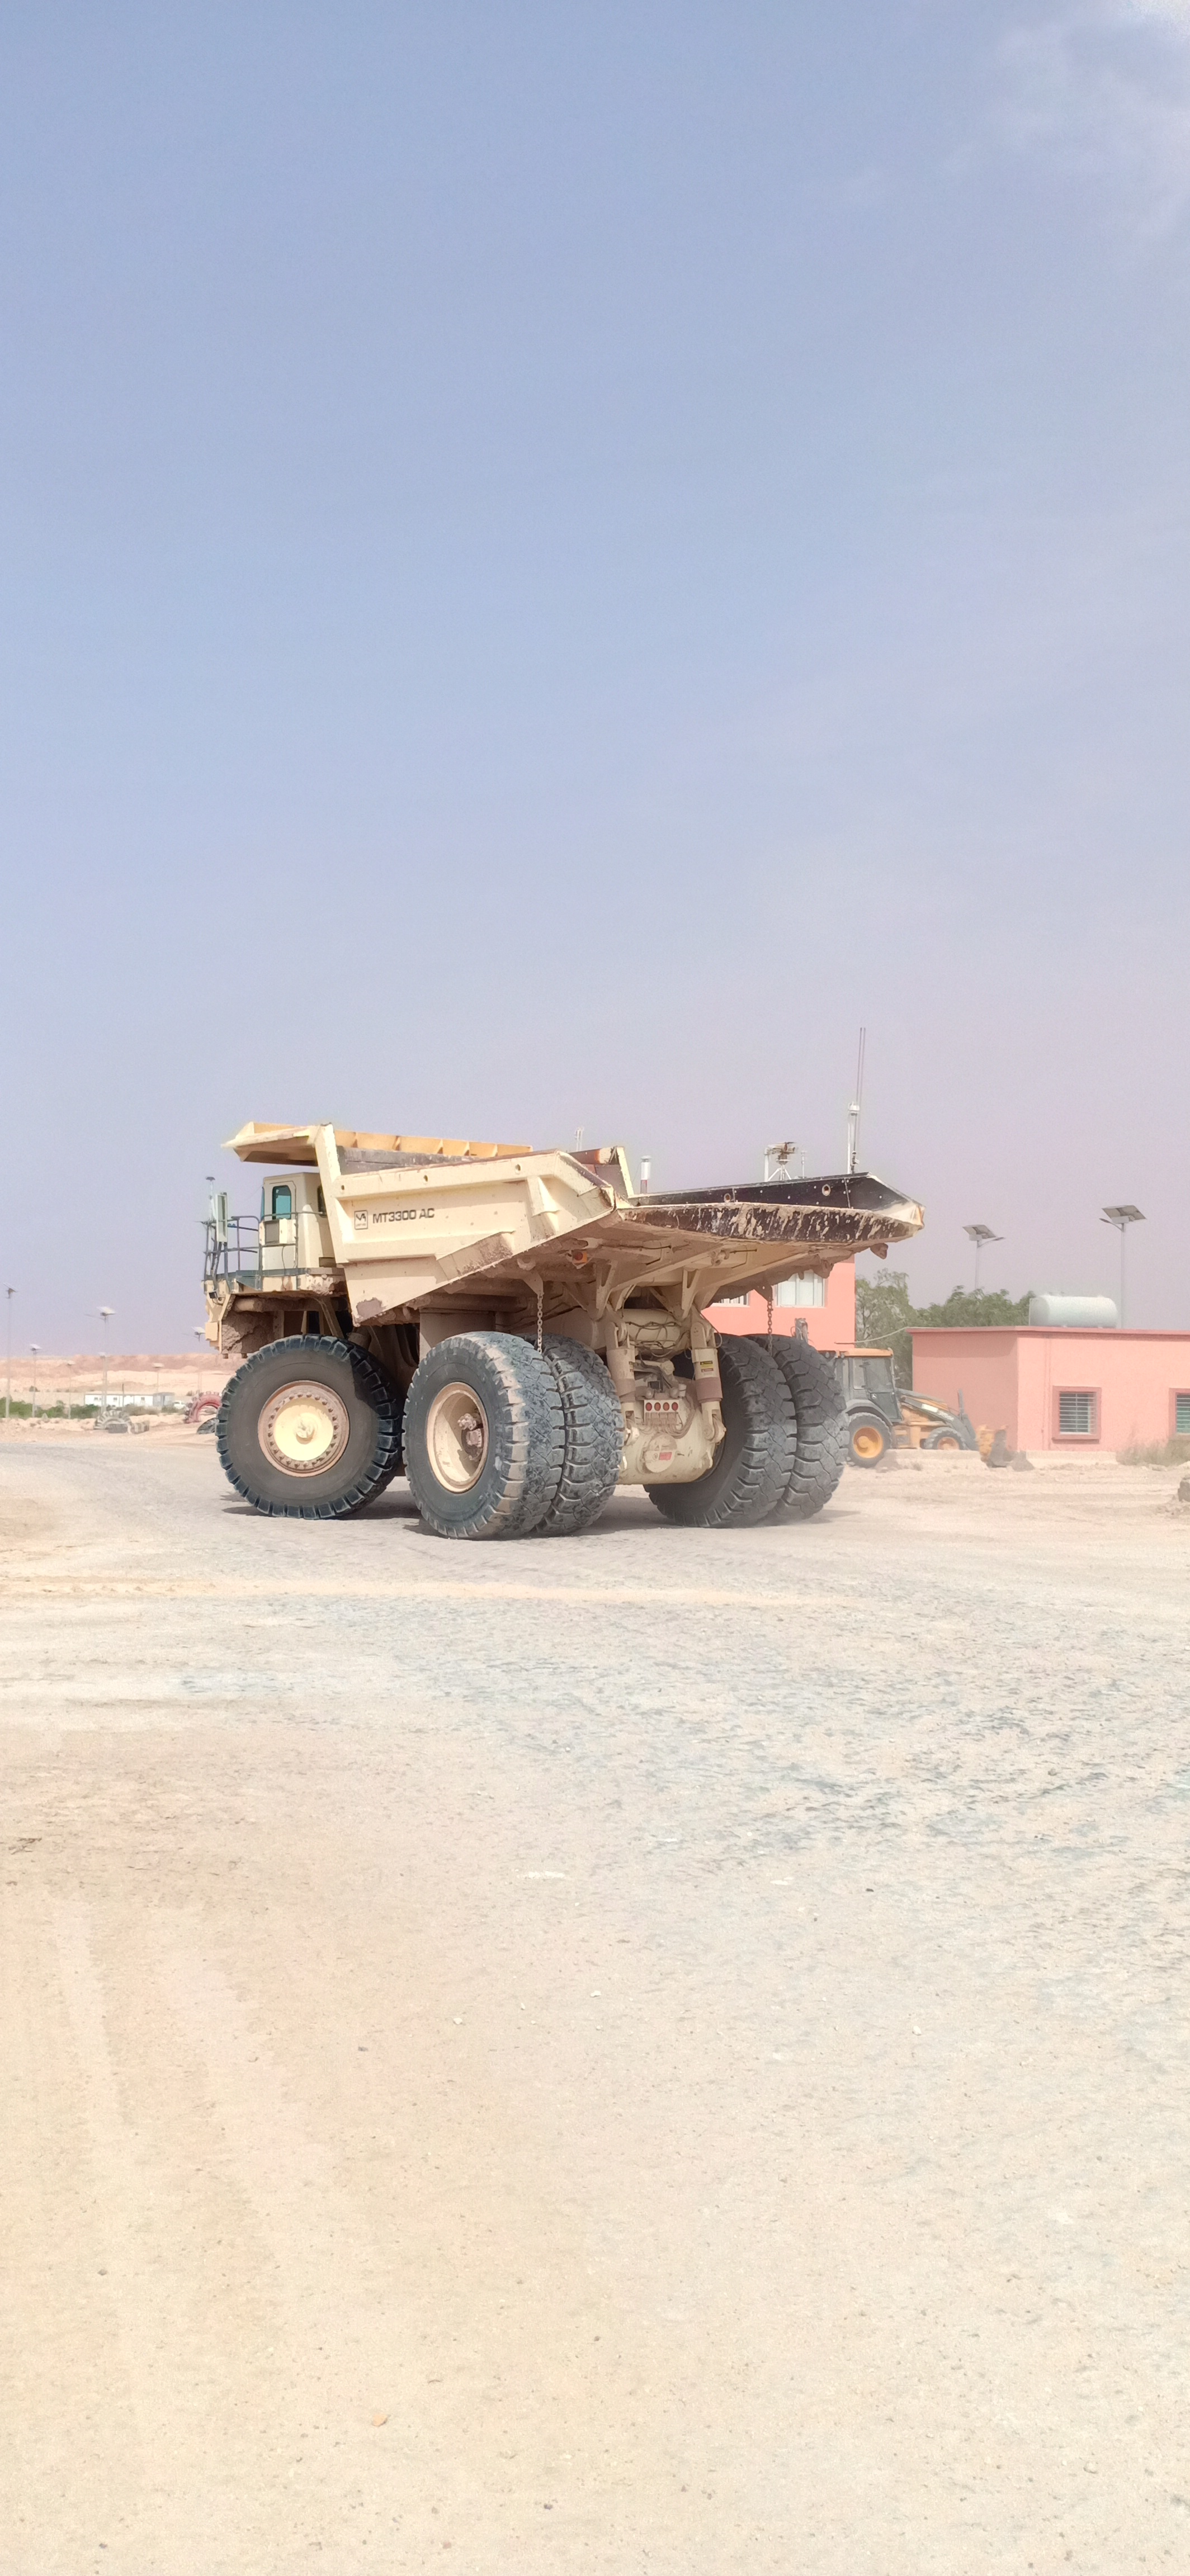camion: (184, 1102, 940, 1557)
